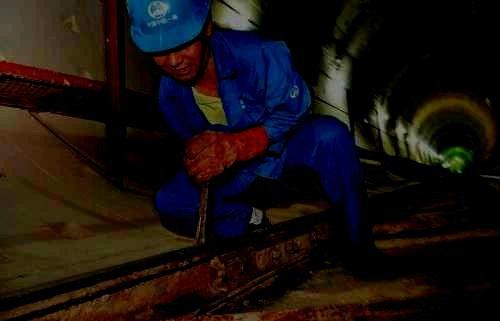helmet: (125, 1, 210, 82)
